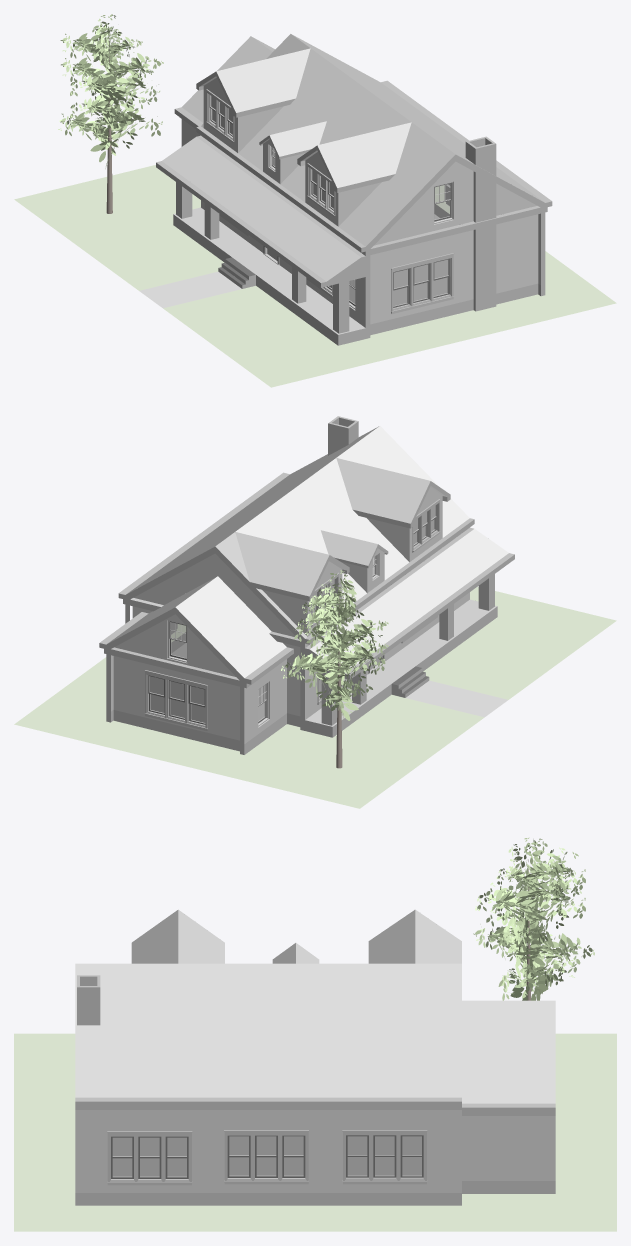
The model's file is sp-prop-sf-2L-64ft.glb.
The picture shows the model from 3 angles, top to bottom: view 1: azimuth 30°, elevation 25°; view 2: azimuth 150°, elevation 25°; view 3: azimuth 270°, elevation 25°; orthographic projection. The views are drawn at different scales.
Parts seen in each view (by area): view 1: 3DGeom-73, 3DGeom-2, 3DGeom-3, 3DGeom-1, 3DGeom-4, 3DGeom-634, 3DGeom-5, 3DGeom-17; view 2: 3DGeom-73, 3DGeom-2, 3DGeom-3, 3DGeom-1, 3DGeom-4, 3DGeom-634, 3DGeom-5, 3DGeom-17; view 3: 3DGeom-4, 3DGeom-73, 3DGeom-2, 3DGeom-1, 3DGeom-634, 3DGeom-5.
Part boxes in pixels (<box>): 3DGeom-73: <box>14,165,616,387</box>; 3DGeom-2: <box>156,34,552,345</box>; 3DGeom-3: <box>139,36,455,308</box>; 3DGeom-1: <box>173,77,540,334</box>; 3DGeom-4: <box>216,34,543,201</box>; 3DGeom-634: <box>58,14,163,168</box>; 3DGeom-5: <box>209,95,451,313</box>; 3DGeom-17: <box>272,147,450,303</box>; 3DGeom-73: <box>14,586,616,808</box>; 3DGeom-2: <box>99,416,514,754</box>; 3DGeom-3: <box>175,426,508,717</box>; 3DGeom-1: <box>111,486,497,743</box>; 3DGeom-4: <box>107,426,430,643</box>; 3DGeom-634: <box>281,570,388,720</box>; 3DGeom-5: <box>148,504,437,730</box>; 3DGeom-17: <box>170,556,376,720</box>; 3DGeom-4: <box>75,909,555,1103</box>; 3DGeom-73: <box>14,1033,616,1231</box>; 3DGeom-2: <box>75,975,555,1205</box>; 3DGeom-1: <box>75,1110,555,1192</box>; 3DGeom-634: <box>473,837,594,1000</box>; 3DGeom-5: <box>111,1135,423,1178</box>.
Bounding box in the file's own units: 15.25 × 8.31 × 19.65.
